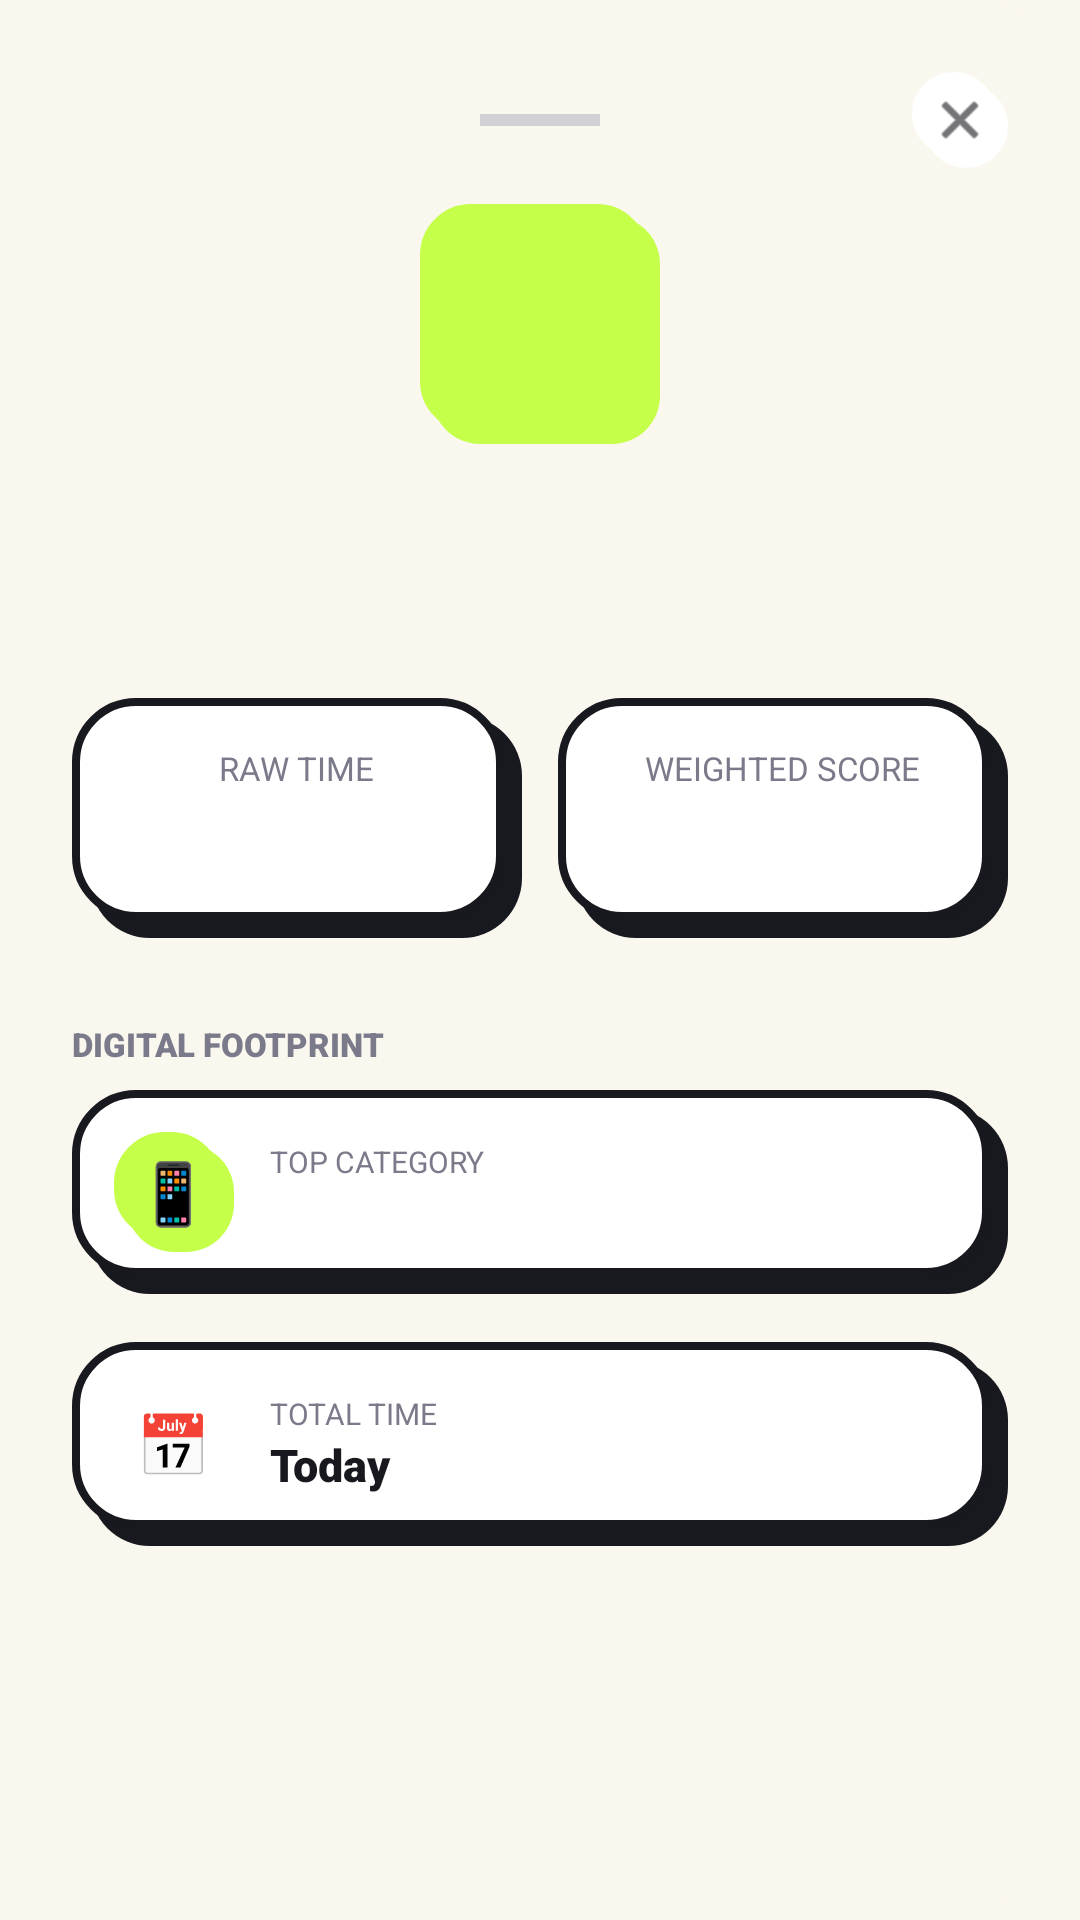

Named icons in this screenshot (1080w x 1920h) and their centers, point (x, y):
close clear cancel: point (960, 120)
